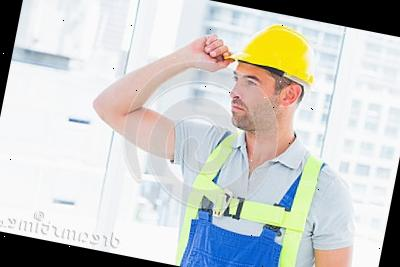helmet: (222, 16, 325, 89)
no_wear: (164, 128, 348, 267)
